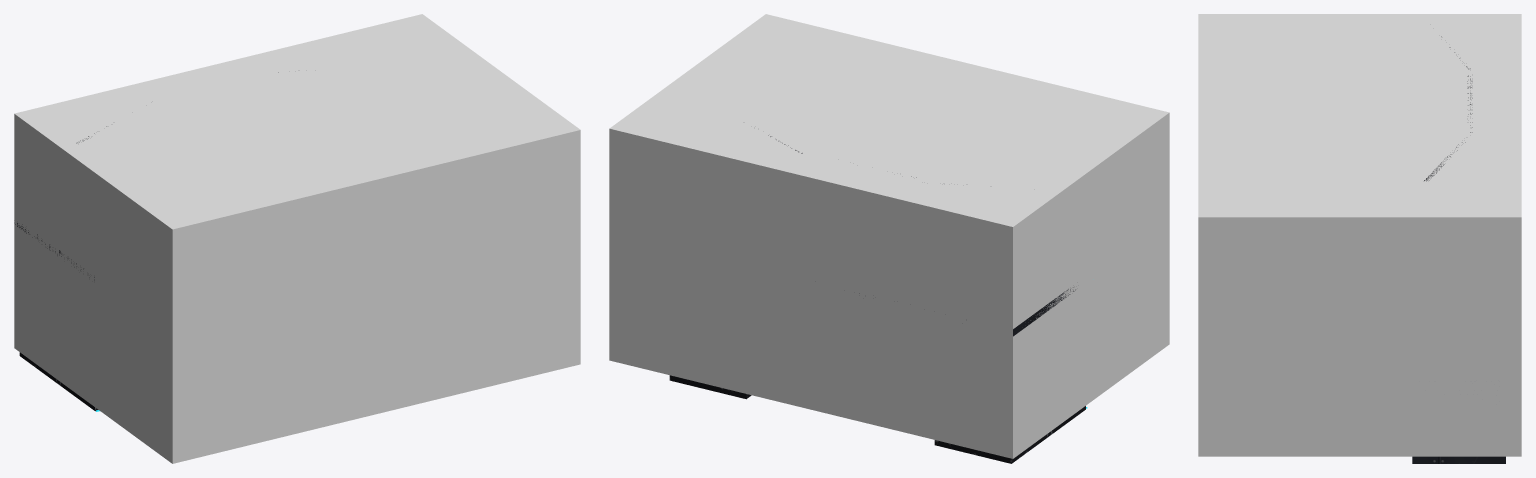
File: Furn_Workstation_3Mon.gltf
The picture shows the model from 3 angles, left to right: view 1: azimuth 30°, elevation 25°; view 2: azimuth 150°, elevation 25°; view 3: azimuth 270°, elevation 25°; orthographic projection. The views are drawn at different scales.
Parts seen in each view (by area): view 1: Furn_Workstation_3Mon_COL; view 2: Furn_Workstation_3Mon_COL, Furn_Workstation_3Mon; view 3: Furn_Workstation_3Mon_COL, Furn_Workstation_3Mon.
Boxes of the visible parts, <box> form: Furn_Workstation_3Mon_COL: <box>14,14,580,463</box>; Furn_Workstation_3Mon_COL: <box>609,14,1169,458</box>; Furn_Workstation_3Mon: <box>669,135,1087,463</box>; Furn_Workstation_3Mon_COL: <box>1198,14,1521,456</box>; Furn_Workstation_3Mon: <box>1412,36,1505,463</box>.
Size of the model in its own units: 2.31 by 1.31 by 1.55.
Materials: 10 (3 with a texture image).
